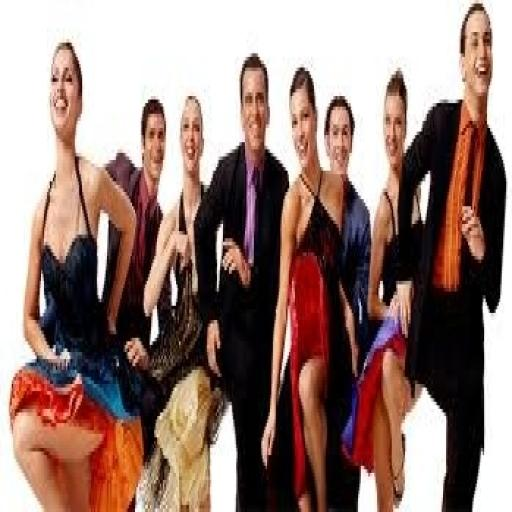dancing: (7, 36, 144, 508), (394, 0, 509, 508), (192, 50, 292, 508), (260, 64, 354, 508)
